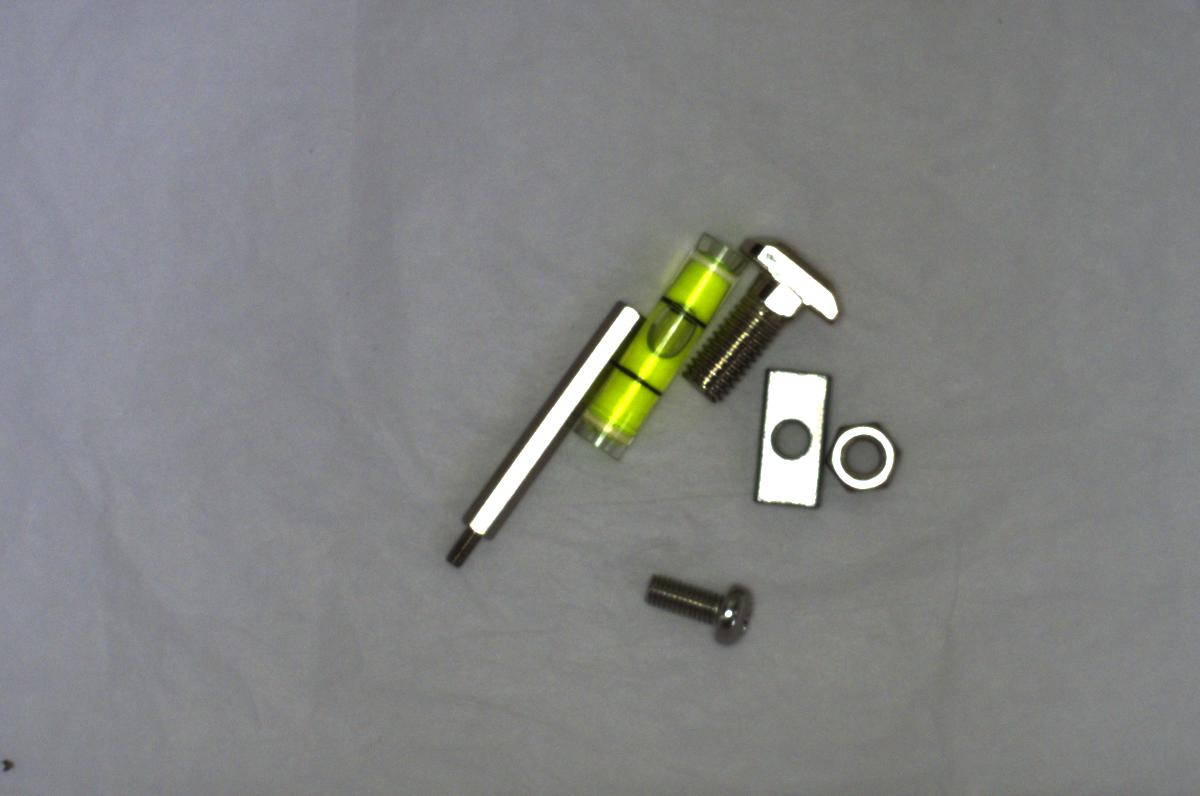Hexagon nut: (821, 416, 905, 499)
Hexagonal steel column: (430, 296, 647, 570)
Horizontal bubble: (585, 238, 742, 462)
Rectangular nut: (750, 365, 833, 514)
Round head screw: (630, 569, 757, 649)
T-shaped screw: (684, 230, 847, 405)
